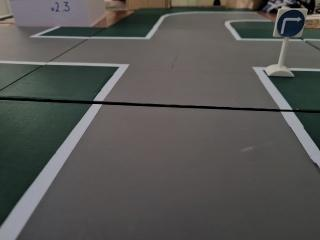right: (274, 3, 309, 41)
